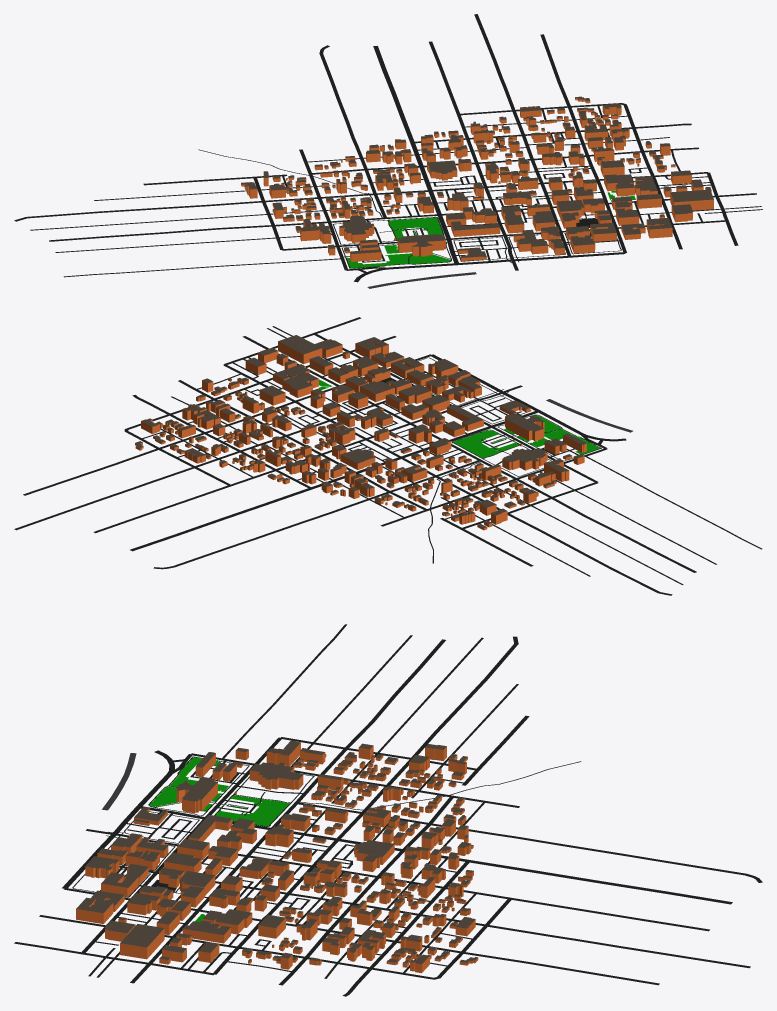
Rendered from flagstaff.obj.
3 renders of one model, top to bottom at view 1: azimuth 30°, elevation 25°; view 2: azimuth 150°, elevation 25°; view 3: azimuth 270°, elevation 25°, orthographic. The views are drawn at different scales.
Parts seen in each view (by area): view 1: map_3.osm_buildings, map_3.osm_roads_residential, map_3.osm_roads_service, map_3.osm_roads_tertiary, map_3.osm_roads_primary, map_3.osm_vegetation, map_3.osm_paths_footway; view 2: map_3.osm_buildings, map_3.osm_roads_residential, map_3.osm_roads_service, map_3.osm_roads_tertiary, map_3.osm_roads_primary, map_3.osm_vegetation, map_3.osm_paths_footway; view 3: map_3.osm_buildings, map_3.osm_roads_residential, map_3.osm_roads_service, map_3.osm_roads_tertiary, map_3.osm_roads_primary, map_3.osm_vegetation, map_3.osm_paths_footway.
Boxes of the visible parts, x1,y1,x2,y2 form: map_3.osm_buildings: [241, 96, 713, 261]; map_3.osm_roads_residential: [14, 14, 756, 270]; map_3.osm_roads_service: [30, 106, 762, 277]; map_3.osm_roads_tertiary: [346, 34, 738, 273]; map_3.osm_roads_primary: [354, 46, 625, 282]; map_3.osm_vegetation: [346, 191, 635, 268]; map_3.osm_paths_footway: [332, 215, 621, 268]; map_3.osm_buildings: [135, 335, 586, 530]; map_3.osm_roads_residential: [14, 336, 696, 595]; map_3.osm_roads_service: [141, 326, 762, 584]; map_3.osm_roads_tertiary: [23, 317, 607, 533]; map_3.osm_roads_primary: [130, 354, 626, 551]; map_3.osm_vegetation: [318, 379, 600, 458]; map_3.osm_paths_footway: [390, 357, 601, 476]; map_3.osm_buildings: [76, 740, 478, 973]; map_3.osm_roads_residential: [39, 636, 762, 996]; map_3.osm_roads_service: [88, 624, 518, 978]; map_3.osm_roads_tertiary: [14, 754, 709, 985]; map_3.osm_roads_primary: [62, 750, 732, 904]; map_3.osm_vegetation: [149, 757, 289, 922]; map_3.osm_paths_footway: [72, 756, 314, 897].
Size of the model in its own units: 1375 by 21.07 by 1168.
